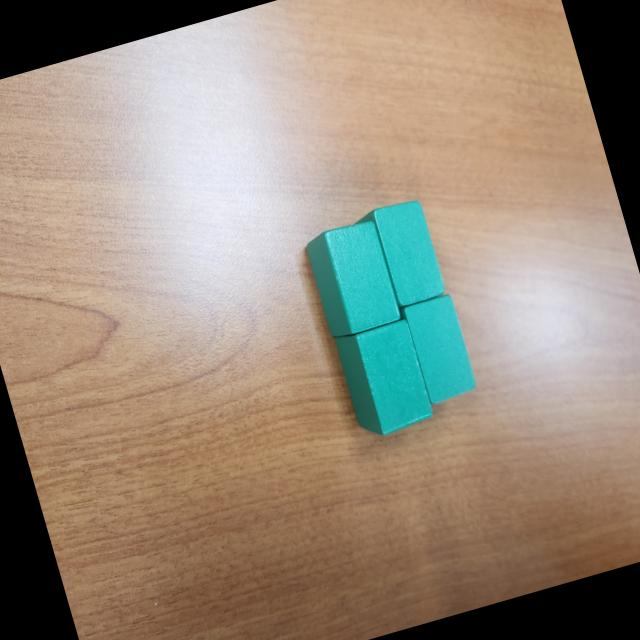green: (332, 316, 438, 446), (302, 214, 404, 341), (350, 194, 448, 314), (398, 292, 480, 406)
